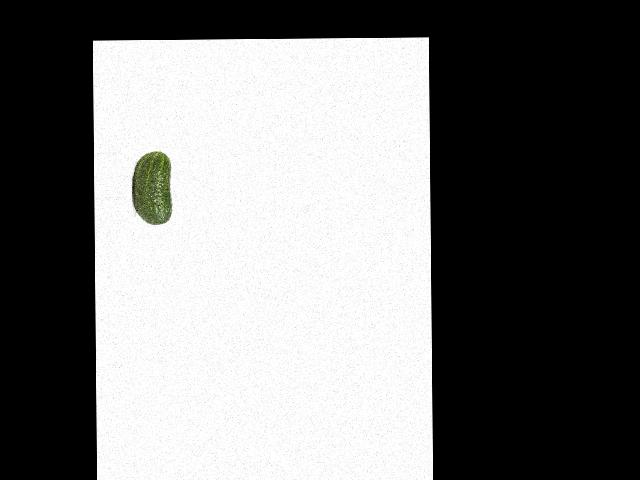cucumber: (132, 151, 171, 225)
